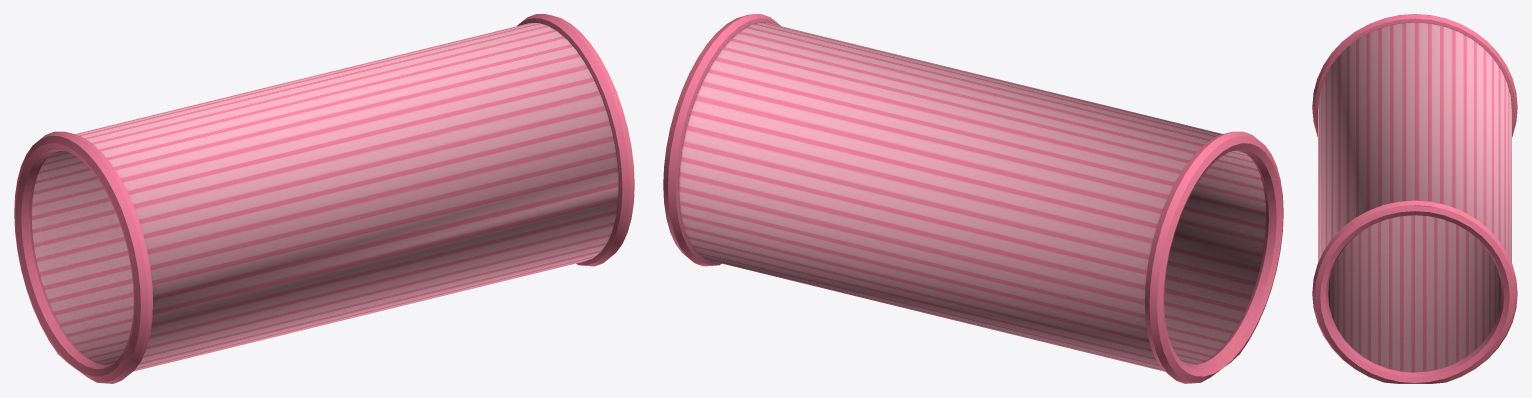
Rendered from tunnel.glb.
The picture shows the model from 3 angles, left to right: view 1: azimuth 30°, elevation 25°; view 2: azimuth 150°, elevation 25°; view 3: azimuth 270°, elevation 25°; orthographic projection. The views are drawn at different scales.
Visible parts, largest first — view 1: tunnel; view 2: tunnel; view 3: tunnel.
Boxes of the visible parts, x1,y1,x2,y2 form: tunnel: (14,14,634,383); tunnel: (663,14,1283,383); tunnel: (1312,14,1517,383).
Size of the model in its own units: 1.04 by 0.453 by 0.466.
Materials: 1 (1 with a texture image).
